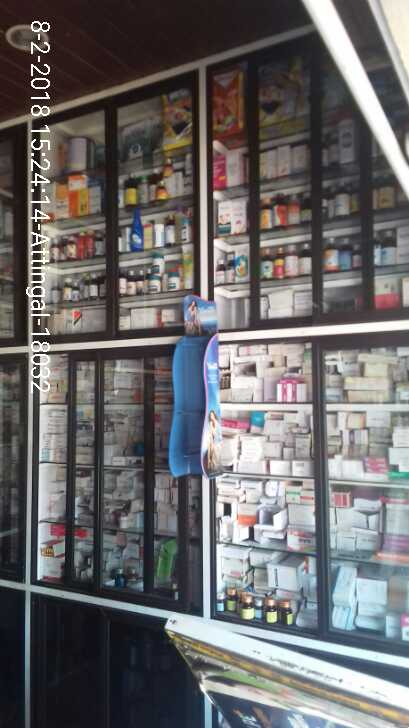reject: (354, 391, 393, 442)
